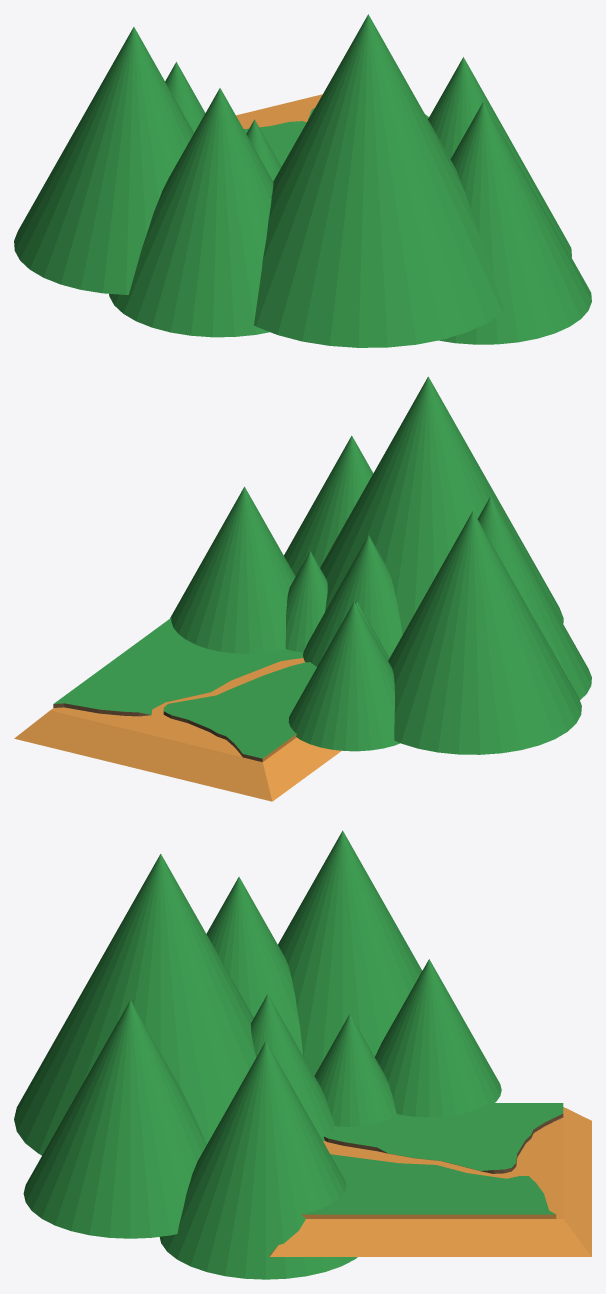
Rendered from forest_terrain.glb.
3 views of the same model, one above another, from view 1: azimuth 30°, elevation 25°; view 2: azimuth 150°, elevation 25°; view 3: azimuth 270°, elevation 25° (orthographic). The views are drawn at different scales.
Visible parts, largest first — view 1: Cone, Plane; view 2: Cone, Plane; view 3: Cone, Plane.
Part boxes in pixels (box(x1,y1,x2,y2)): Cone: box(14, 14, 591, 347); Plane: box(236, 94, 428, 166); Cone: box(170, 376, 591, 754); Plane: box(14, 617, 341, 801); Cone: box(14, 830, 501, 1279); Plane: box(269, 1103, 591, 1256).
Size of the model in its own units: 187 by 115 by 195.
